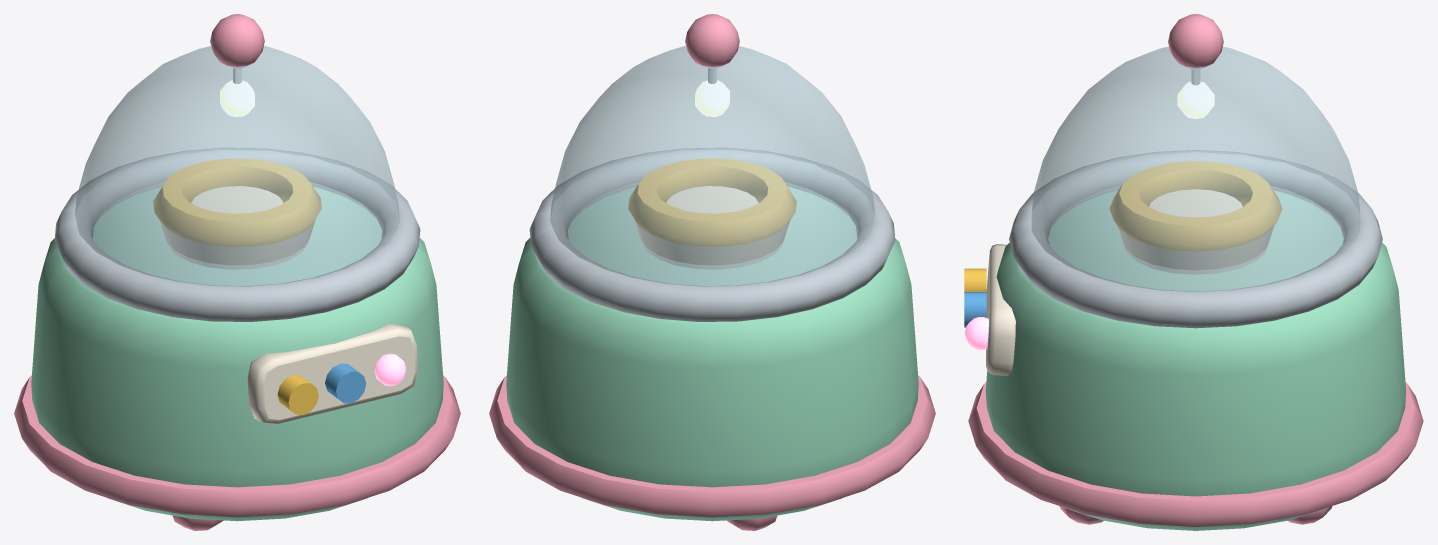
The model's file is prop_incubator.glb.
3 views of the same model, side by side, from view 1: azimuth 30°, elevation 25°; view 2: azimuth 150°, elevation 25°; view 3: azimuth 270°, elevation 25° (orthographic).
Visible parts, largest first — view 1: prop_incubator; view 2: prop_incubator; view 3: prop_incubator.
Boxes of the visible parts, <box> form: prop_incubator: <box>14,14,460,530</box>; prop_incubator: <box>489,14,935,530</box>; prop_incubator: <box>964,14,1423,530</box>.
Bounding box in the file's own units: 0.816 × 0.908 × 0.823.
